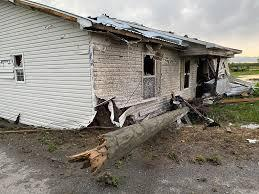major: (0, 0, 236, 144)
